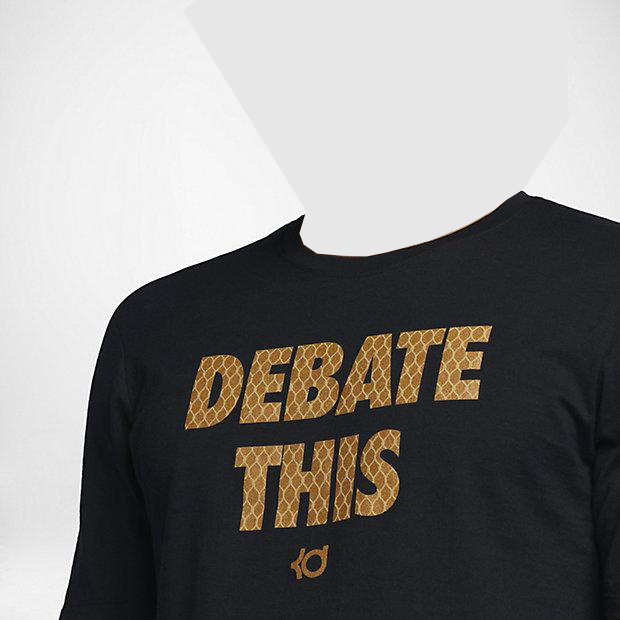teeshirt: (39, 194, 620, 619)
